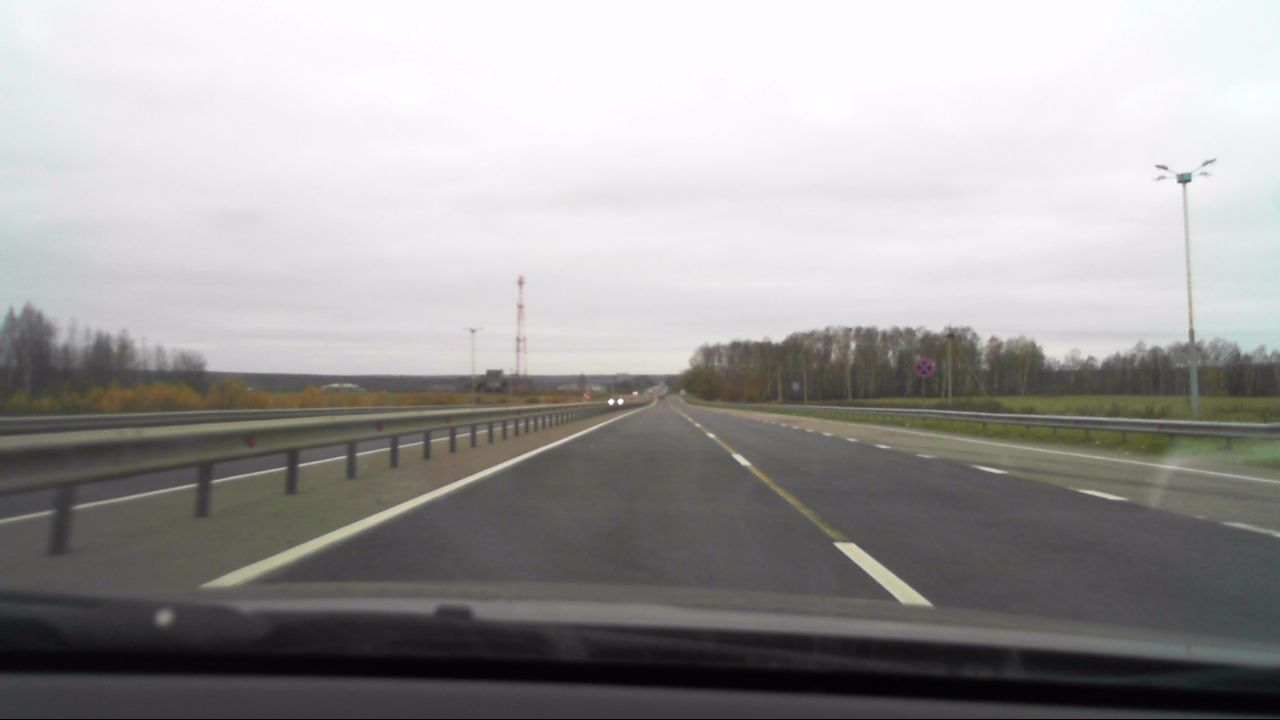No Parking: (912, 358, 933, 379)
